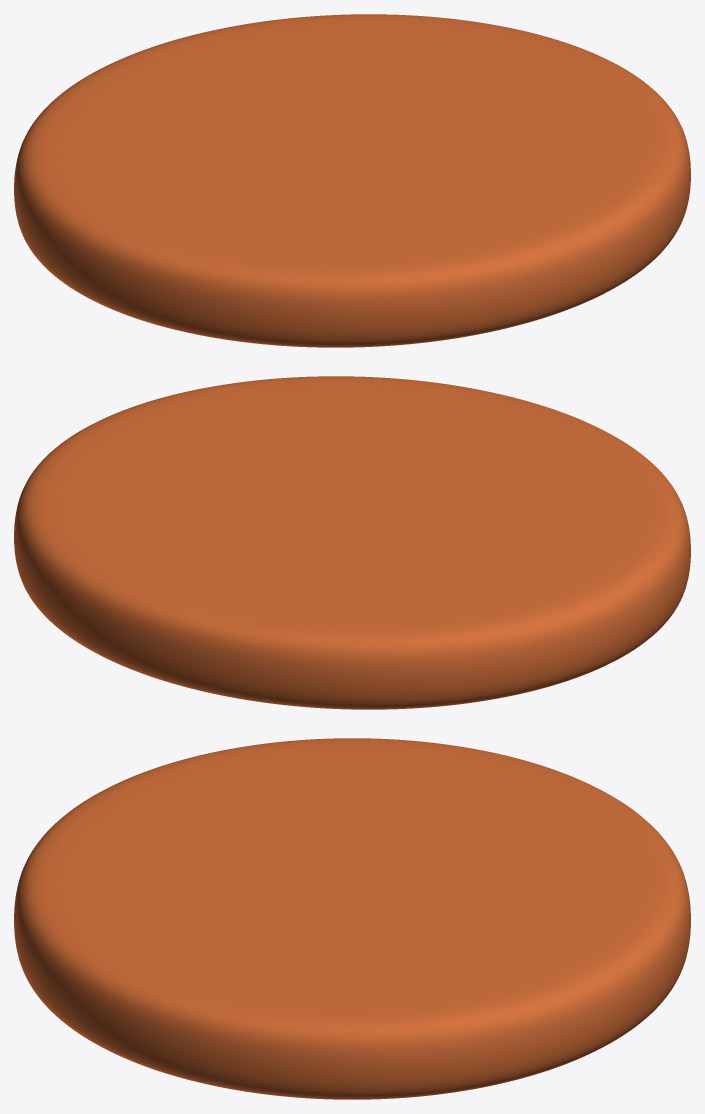
File: pain_1.fbx
3 views of the same model, one above another, from view 1: azimuth 30°, elevation 25°; view 2: azimuth 150°, elevation 25°; view 3: azimuth 270°, elevation 25° (orthographic). The views are drawn at different scales.
Visible parts, largest first — view 1: bred down.001; view 2: bred down.001; view 3: bred down.001.
Boxes of the visible parts, x1,y1,x2,y2 form: bred down.001: (14,14,690,347); bred down.001: (14,376,690,709); bred down.001: (14,738,690,1099).
Size of the model in its own units: 250 by 29.42 by 235.
